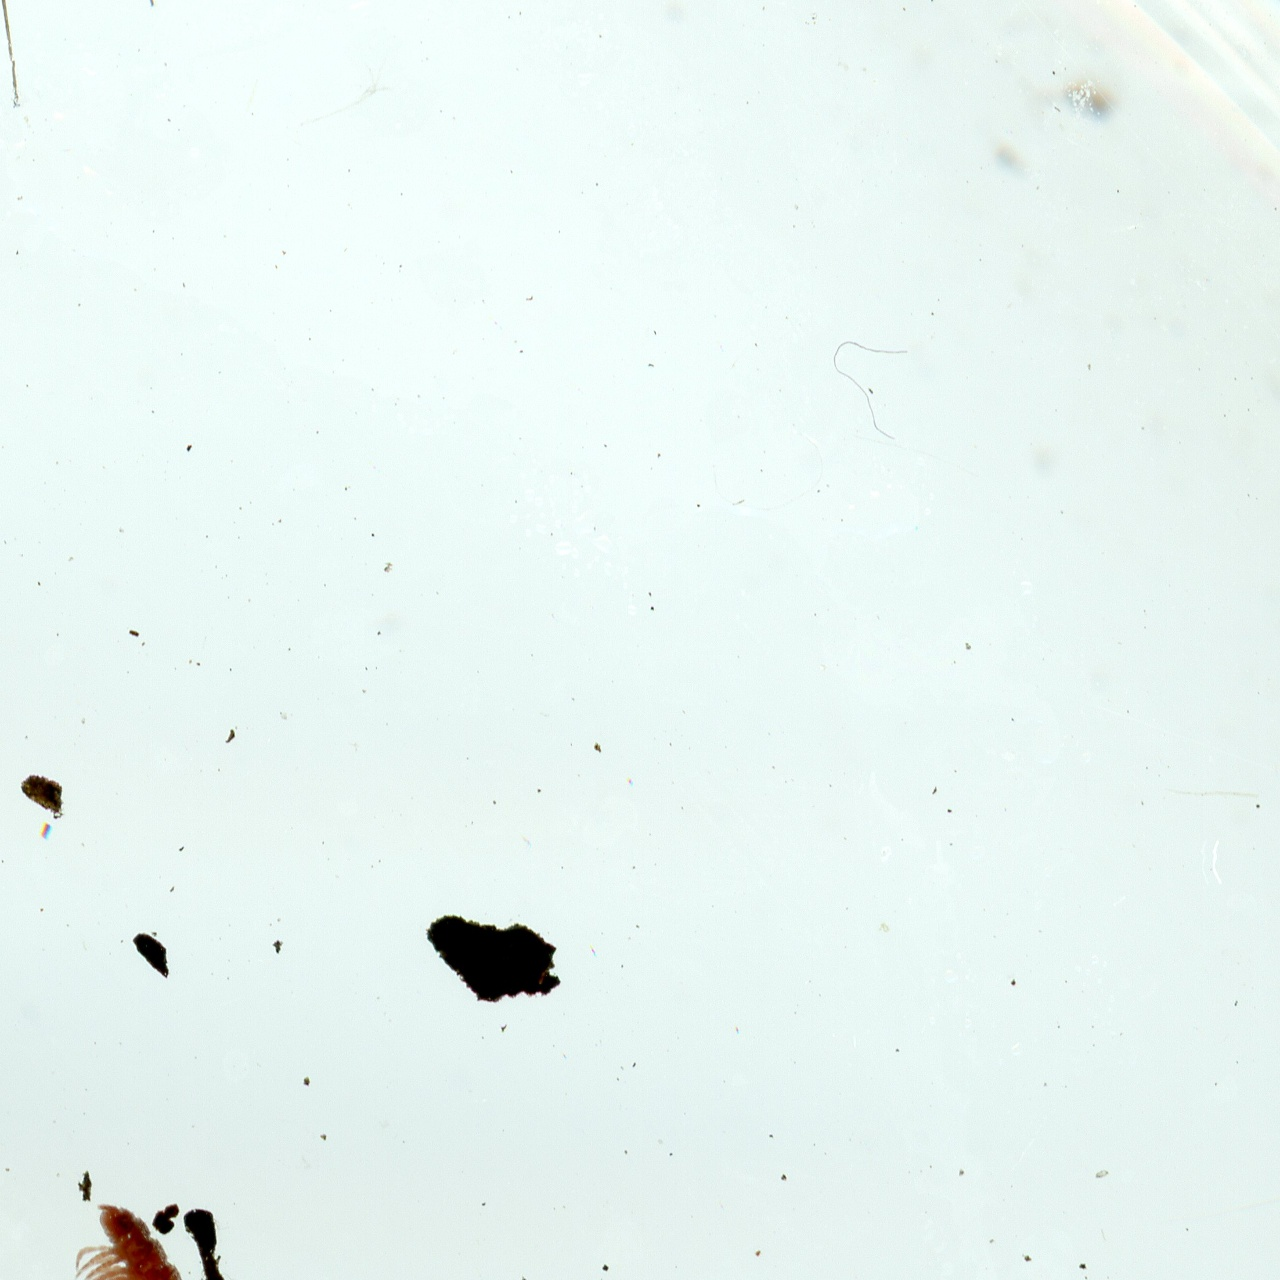arthropod: (0, 1180, 267, 1280), (0, 0, 162, 134)
